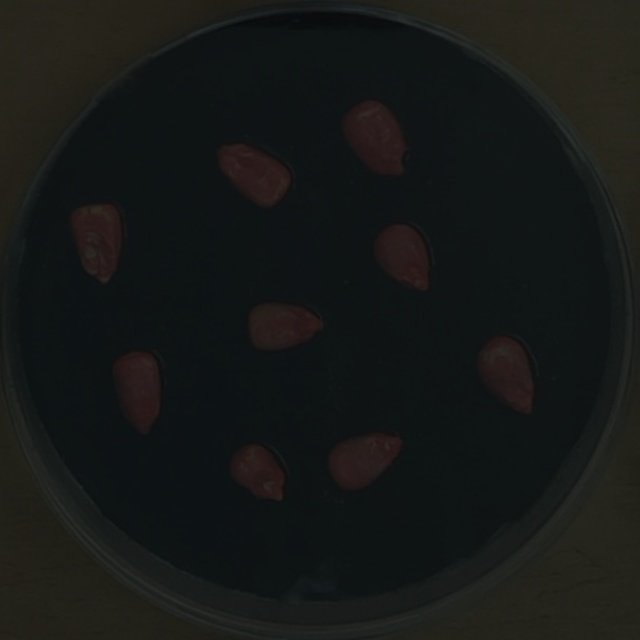Zea mays: (331, 92, 415, 186), (207, 131, 299, 216), (317, 422, 412, 503), (467, 327, 545, 425), (60, 194, 130, 293), (105, 343, 168, 443), (238, 293, 331, 360), (365, 216, 440, 298), (222, 435, 295, 514)
